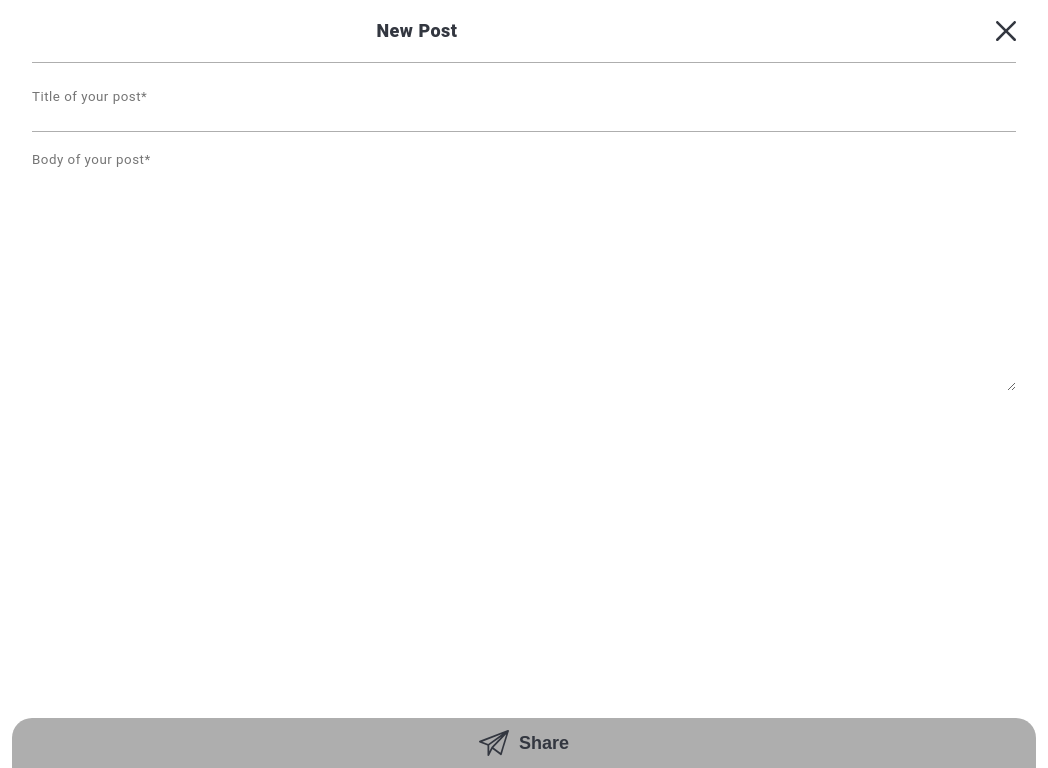
Test: New Post Functionality › Should allow the user to add a new post
Type "Test title" into the field with placeholder "Title of your post*" at (524,97), box [32,62,1016,132]
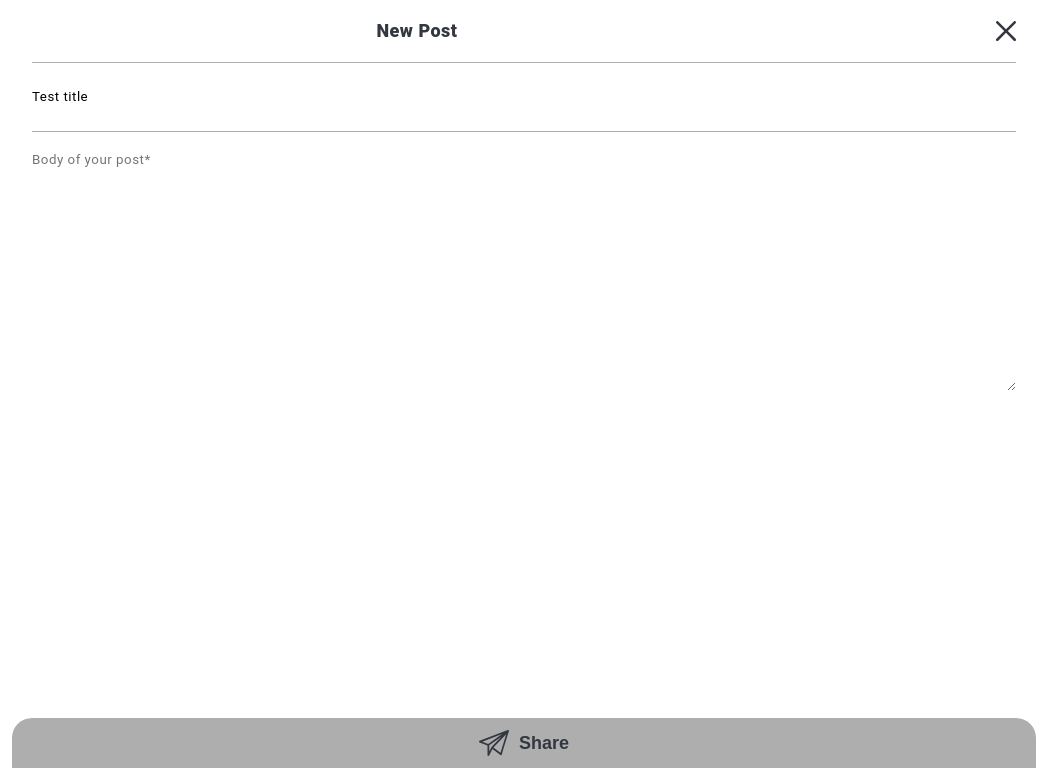
Type "Test content" into the text box with placeholder "Body of your post*" at (524,272), box [32,152,1016,392]
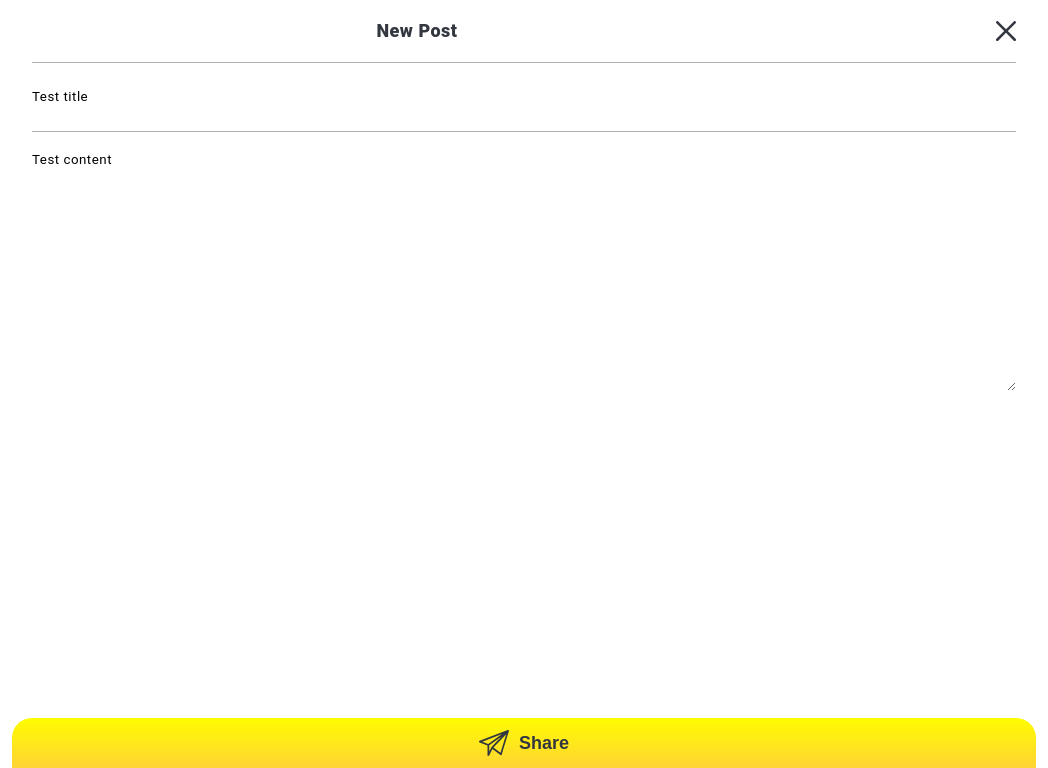
Click the button with test id "form-submit-button" at (524,743), box [12,718,1036,767]
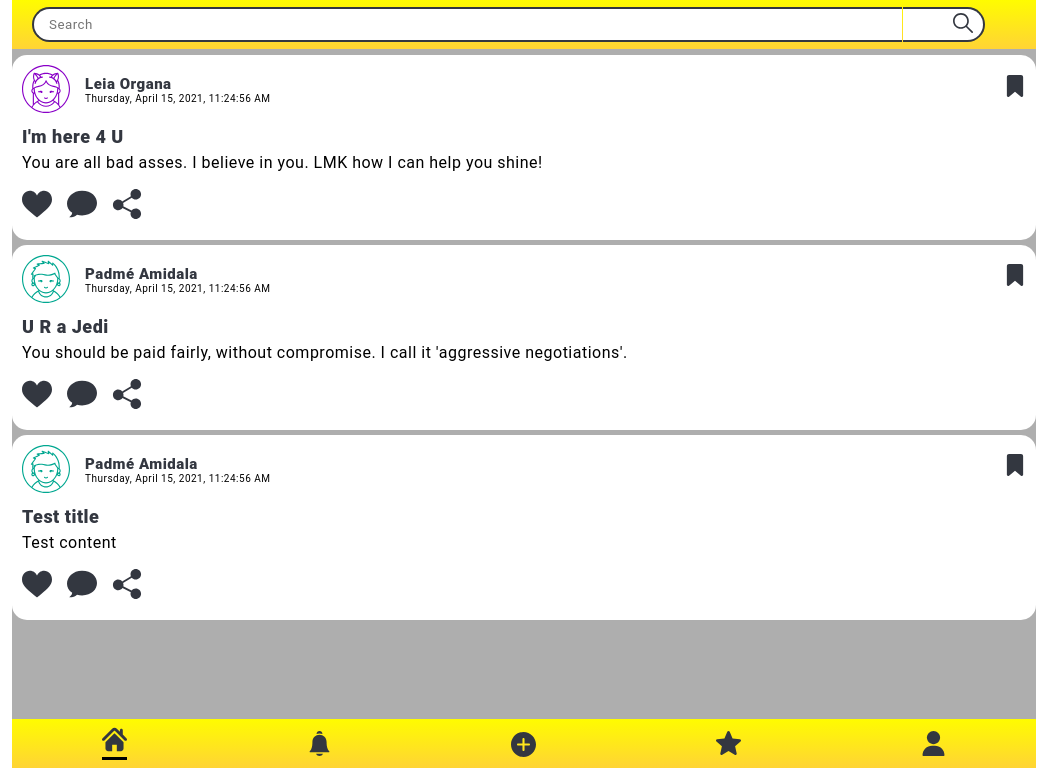
Click the link with test id "add-post-button" at (525,743), box [512,725,537,761]
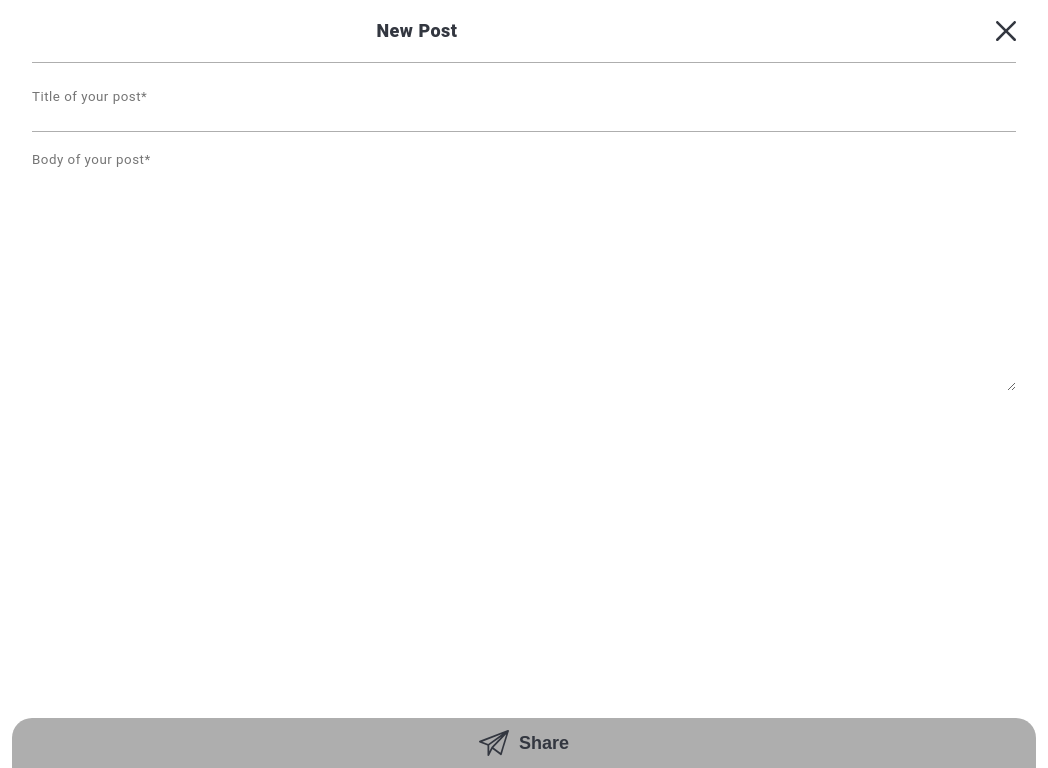
Open "http://localhost:3000/"
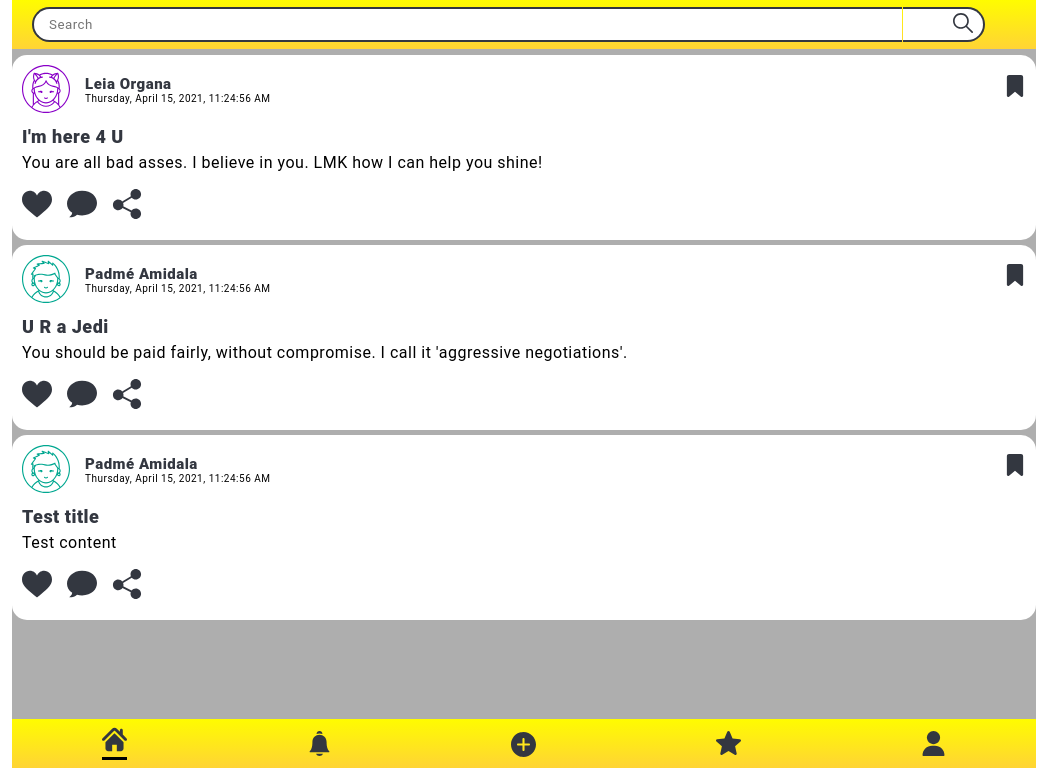
Expected: the heading "Test title" is shown, [22,506,99,527]
